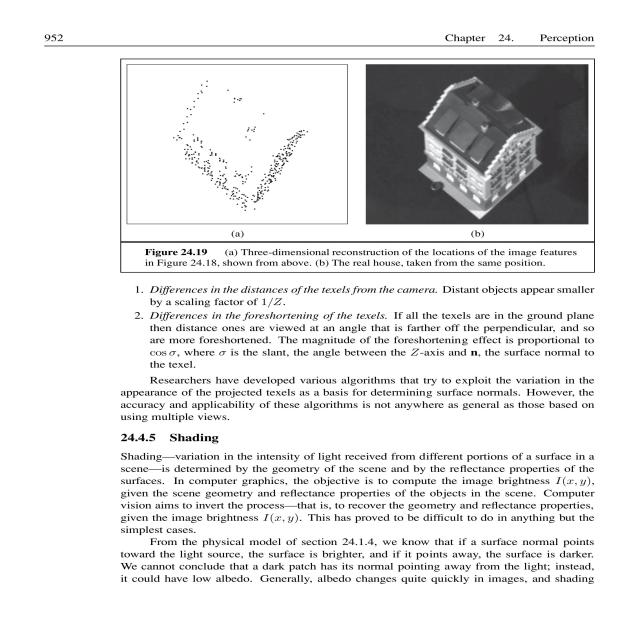diagram: (124, 56, 607, 274)
